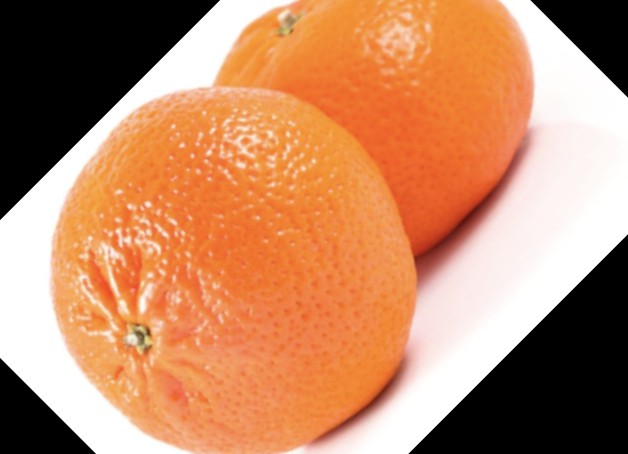fresh_orange: (52, 87, 419, 453), (208, 1, 536, 259)
